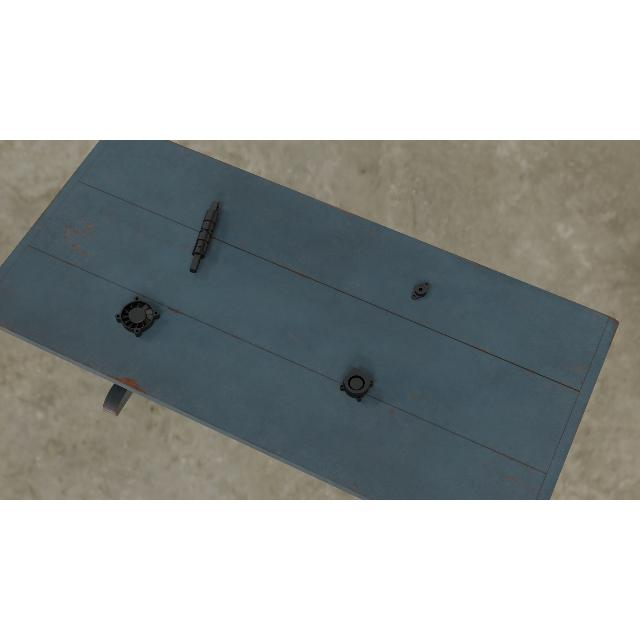Pieza1: (185, 198, 222, 276)
Pieza2: (406, 278, 434, 302)
Pieza3: (339, 366, 375, 404)
Pieza4: (114, 295, 162, 339)
